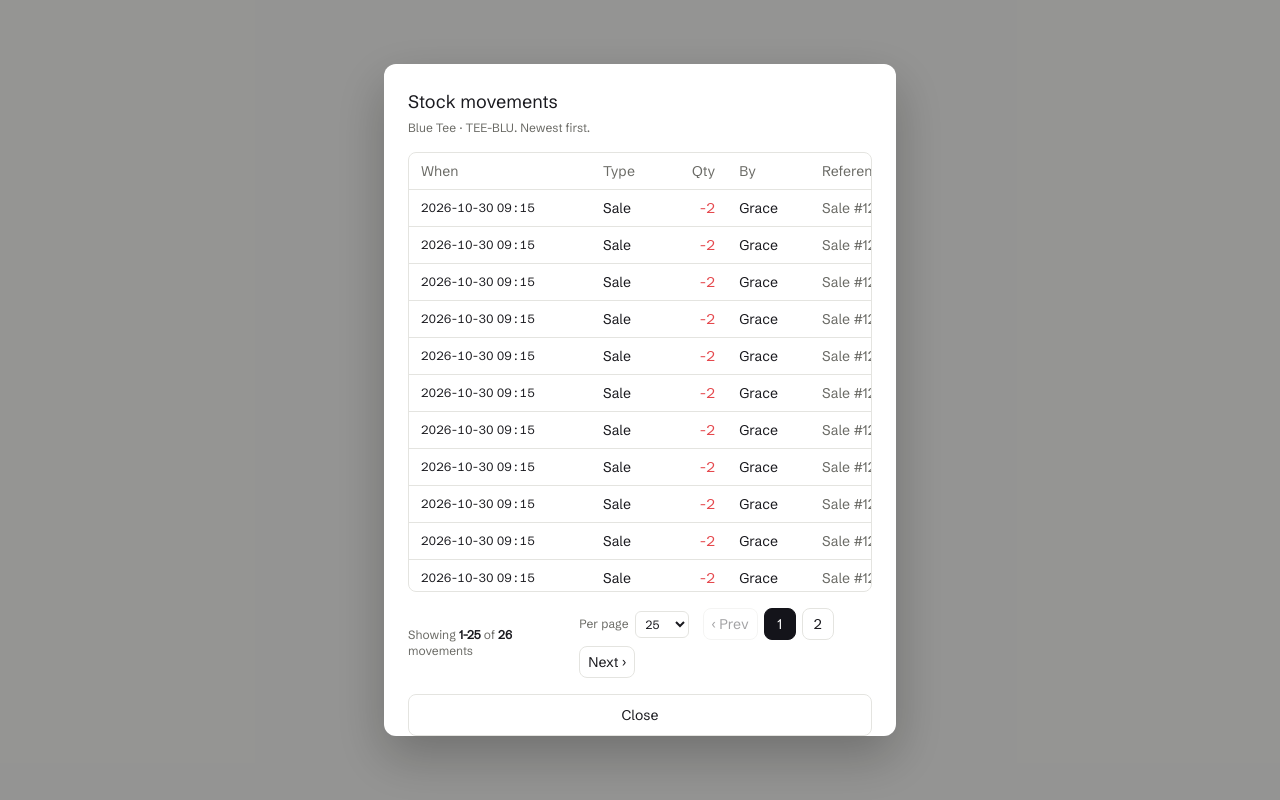
MovementsSheet › pages through the ledger
Expected: the text "Showing 1-25 of 26 movements" is shown, [408,627,512,658]
Step 1. Click the button with aria-label "Next page" → [607, 662], box [579,646,635,678]
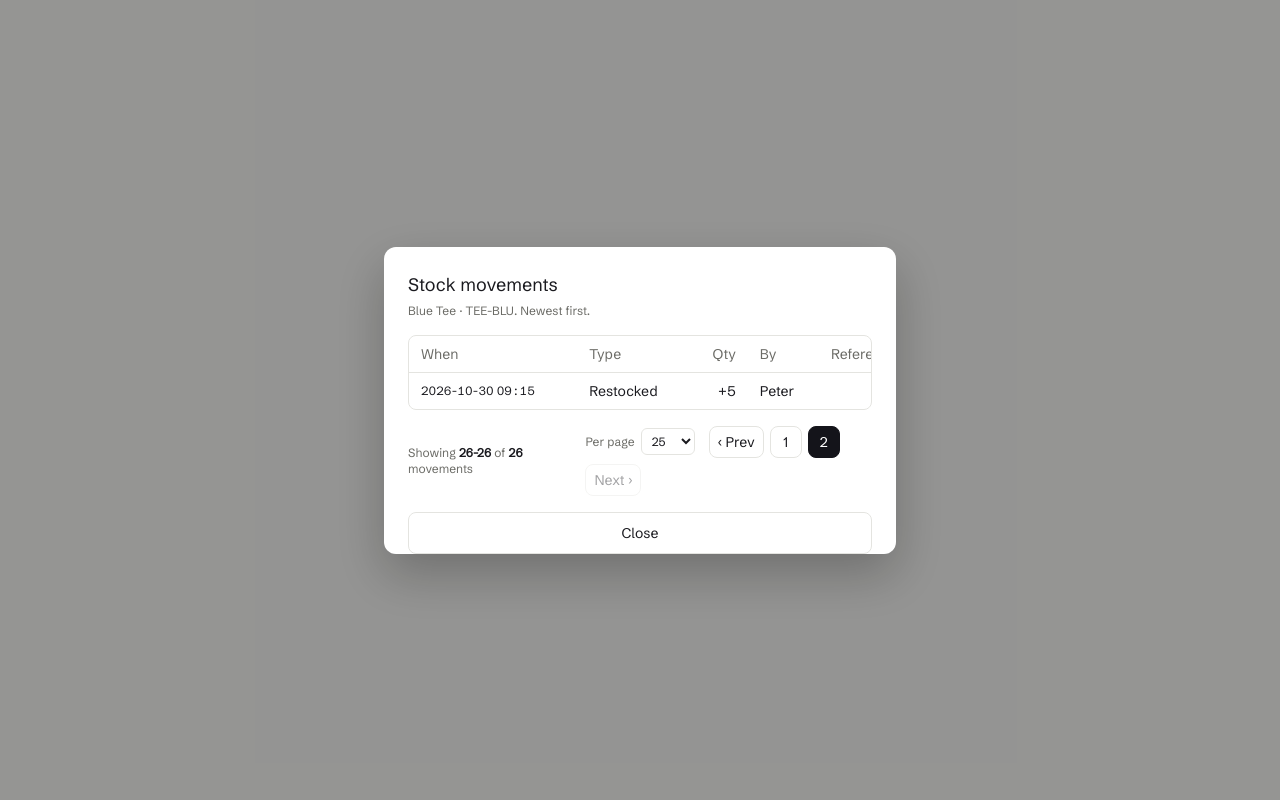
Expected: the text "Peter" is shown, [748,372,819,408]
Expected: the text "Restocked" is shown, [577,372,690,408]
